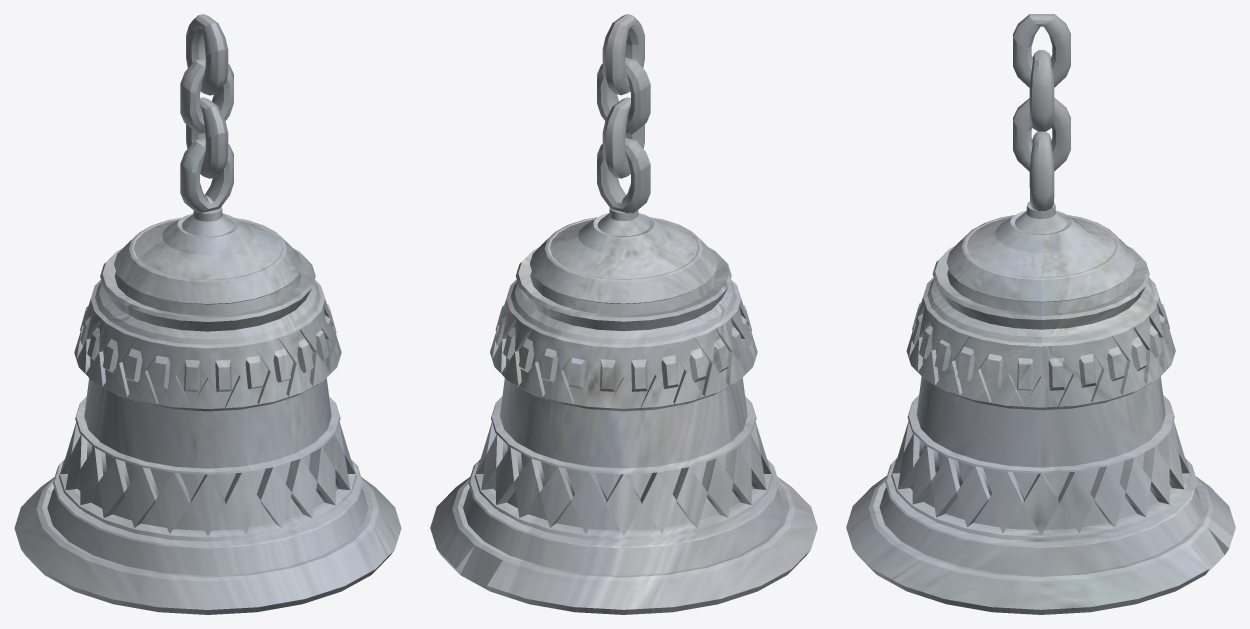
File: bell.glb
The picture shows the model from 3 angles, left to right: view 1: azimuth 30°, elevation 25°; view 2: azimuth 150°, elevation 25°; view 3: azimuth 270°, elevation 25°; orthographic projection.
Bounding box in the file's own units: 4.71 × 7.03 × 4.71.
Materials: 2 (1 with a texture image).
